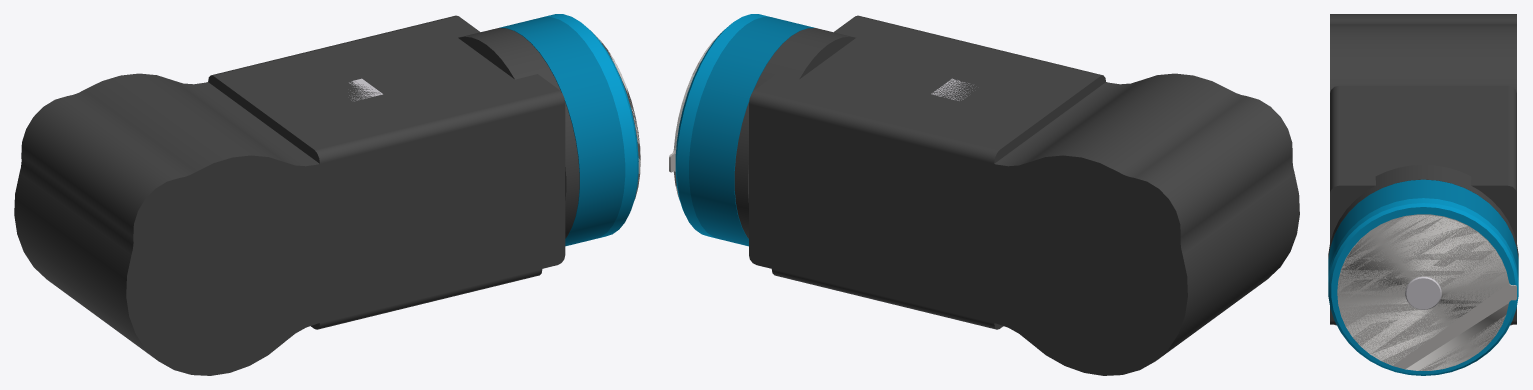
The model's file is elbow_link.dae.
The picture shows the model from 3 angles, left to right: view 1: azimuth 30°, elevation 25°; view 2: azimuth 150°, elevation 25°; view 3: azimuth 270°, elevation 25°; orthographic projection. The views are drawn at different scales.
Parts seen in each view (by area): view 1: FBXASC227FBXASC130FBXASC189FBXASC227FBXASC131FBXASC170FBXASC (×4); view 2: FBXASC227FBXASC130FBXASC189FBXASC227FBXASC131FBXASC170FBXASC (×5); view 3: FBXASC227FBXASC130FBXASC189FBXASC227FBXASC131FBXASC170FBXASC (×6).
Part boxes in pixels (x1,y1,x2,y2): FBXASC227FBXASC130FBXASC189FBXASC227FBXASC131FBXASC170FBXASC (×4): (14, 14, 638, 375); FBXASC227FBXASC130FBXASC189FBXASC227FBXASC131FBXASC170FBXASC (×5): (669, 14, 1299, 375); FBXASC227FBXASC130FBXASC189FBXASC227FBXASC131FBXASC170FBXASC (×6): (1328, 14, 1518, 375).
Size of the model in its own units: 0.137 by 0.0519 by 0.054.
